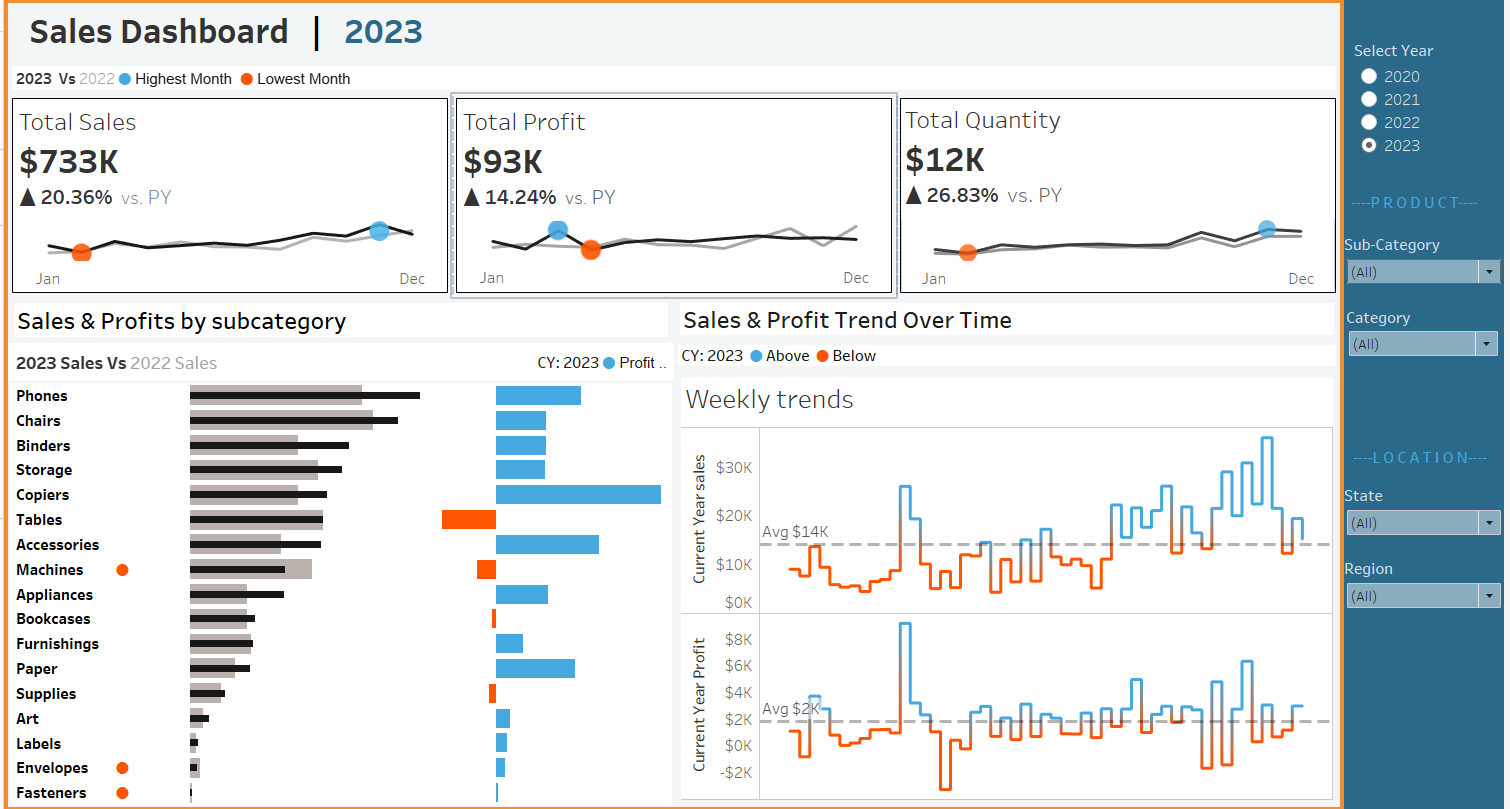

What the dashboard file says about the page in this screenshot:
{"tool":"tableau","page":{"name":"Sales dashboard","canvas":[1000,1000],"units":"permille","ordinal":0},"visuals":[{"type":"text","box":[893.3,0,106.7,500]},{"type":"text","box":[2.7,4.9,888,65.3]},{"type":"parameter","param":"[Parameters].[Year(order date) Parameter]","box":[900,50.5,98,166.3]},{"type":"worksheet","title":"Legend kpi","mark":"Automatic","box":[2.7,77.6,888,39.4]},{"type":"worksheet","title":"KPI Sales","mark":"Automatic","rows":["Calculation_378302415187234820"],"cols":["Order Date"],"box":[2.7,117,296,250]},{"type":"worksheet","title":"KPI Profit","mark":"Line","rows":["Min/Max sales (copy)_378302415210389519"],"cols":["Order Date"],"box":[298.7,117,296,250]},{"type":"worksheet","title":"KPI Quantity","mark":"Line","rows":["Min/Max Profit (copy)_169729457649840131"],"cols":["Order Date"],"box":[594.7,117,296,250]},{"type":"filter","title":"KPI Sales","param":"[federated.0jj0okj0qg0ryu1fnsebl1tpdzmy].[none:Sub-Category:nk]","box":[893.3,289.4,106.7,65.3]},{"type":"text","box":[2.7,367,444,56.6]},{"type":"text","box":[446.7,367,444,54.2]},{"type":"filter","title":"KPI Sales","param":"[federated.0jj0okj0qg0ryu1fnsebl1tpdzmy].[none:Category:nk]","box":[894.7,379.3,103.3,64]},{"type":"text","box":[446.7,421.2,444,35.7]},{"type":"worksheet","title":"Legends","mark":"Automatic","box":[2.7,423.7,348,46.8]},{"type":"text","box":[350.7,423.7,96,46.8]},{"type":"worksheet","title":"Weekly trends","mark":"Automatic","rows":["Calculation_378302415060766720","Calculation_378302415207219211"],"cols":["Order Date"],"box":[446.7,456.9,444,538.2]},{"type":"worksheet","title":"subcategory comparison","mark":"Bar","rows":["Sub-Category","Calculation_1116892754607435776"],"cols":["Current Year sales (copy)_378302415061213185","Calculation_378302415060766720","Calculation_378302415207219211"],"box":[2.7,470.4,444,524.6]},{"type":"text","box":[893.3,500,106.7,500]},{"type":"text","box":[897.3,533.2,99.3,61.6]},{"type":"filter","title":"KPI Sales","param":"[federated.0jj0okj0qg0ryu1fnsebl1tpdzmy].[none:State:nk]","box":[893.3,598.5,106.7,65.3]},{"type":"filter","title":"KPI Sales","param":"[federated.0jj0okj0qg0ryu1fnsebl1tpdzmy].[none:Region:nk]","box":[893.3,688.4,106.7,65.3]}]}

Visuals, with their boxes on the dashboard's canvas, which has no fixed pixel size, in thousandths of its width and height (x1, y1, x2, y2). These are canvas units, not pixel positions in the 1510x809 screenshot, which may show the page scaled, cropped or inside an application window:
text: locate(893, 0, 1000, 500)
text: locate(3, 5, 891, 70)
parameter: locate(900, 50, 998, 217)
"Legend kpi" worksheet: locate(3, 78, 891, 117)
"KPI Sales" worksheet: locate(3, 117, 299, 367)
"KPI Profit" worksheet (Line marks): locate(299, 117, 595, 367)
"KPI Quantity" worksheet (Line marks): locate(595, 117, 891, 367)
"KPI Sales" filter: locate(893, 289, 1000, 355)
text: locate(3, 367, 447, 424)
text: locate(447, 367, 891, 421)
"KPI Sales" filter: locate(895, 379, 998, 443)
text: locate(447, 421, 891, 457)
"Legends" worksheet: locate(3, 424, 351, 470)
text: locate(351, 424, 447, 470)
"Weekly trends" worksheet: locate(447, 457, 891, 995)
"subcategory comparison" worksheet (Bar marks): locate(3, 470, 447, 995)
text: locate(893, 500, 1000, 1000)
text: locate(897, 533, 997, 595)
"KPI Sales" filter: locate(893, 598, 1000, 664)
"KPI Sales" filter: locate(893, 688, 1000, 754)
